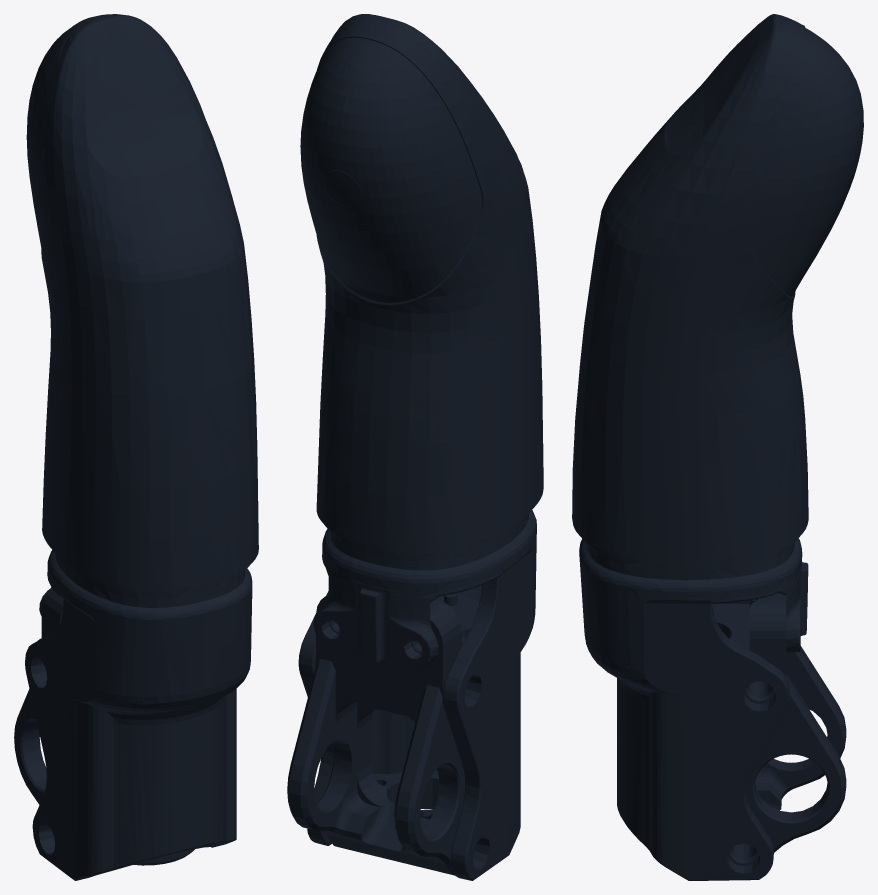
The model's file is L_thumb_dist.obj.
3 renders of one model, left to right at view 1: azimuth 30°, elevation 25°; view 2: azimuth 150°, elevation 25°; view 3: azimuth 270°, elevation 25°, orthographic. The views are drawn at different scales.
Visible parts, largest first — view 1: L_thumb_dist-mesh; view 2: L_thumb_dist-mesh; view 3: L_thumb_dist-mesh.
Boxes of the visible parts, x1,y1,x2,y2 form: L_thumb_dist-mesh: (14,14,258,880); L_thumb_dist-mesh: (287,14,543,880); L_thumb_dist-mesh: (572,14,863,880).
Bounding box in the file's own units: 0.022 × 0.099 × 0.0318.
